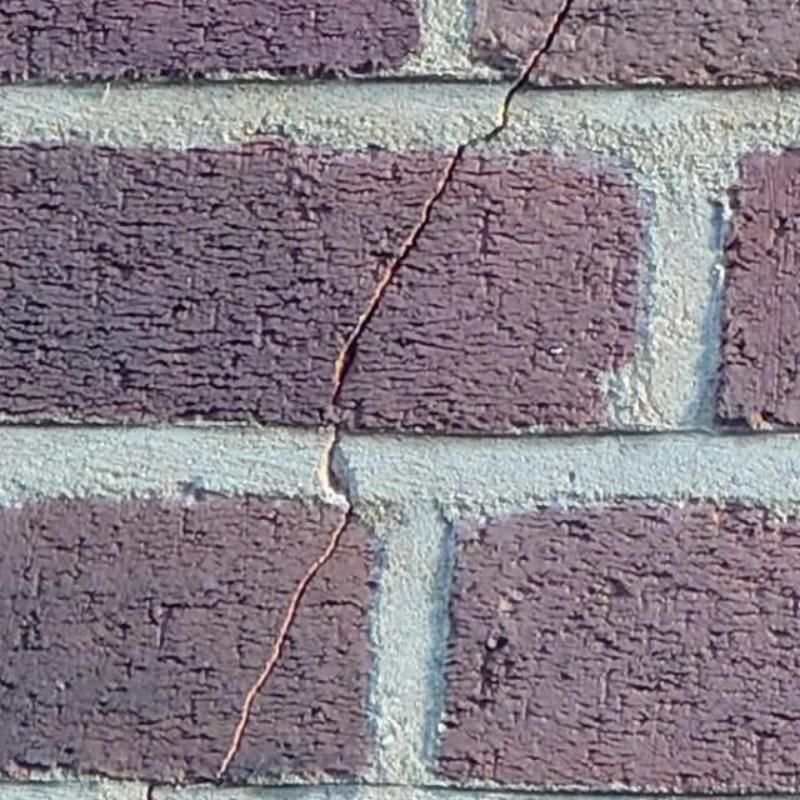crack: (216, 0, 573, 782), (142, 784, 153, 799)
